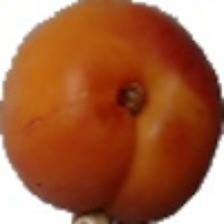apricot: (25, 61, 173, 205)
